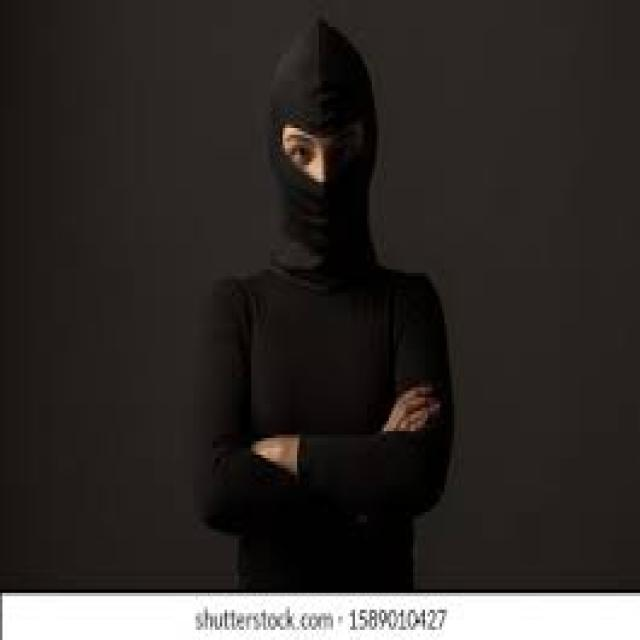person-with-mask: (88, 4, 578, 590)
